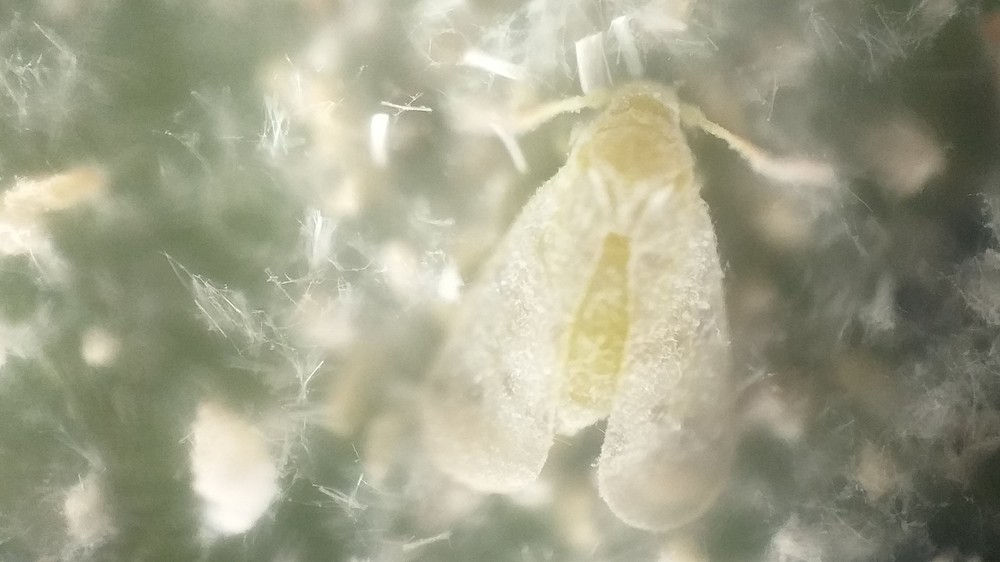Mosca Blanca: (397, 79, 869, 532)
